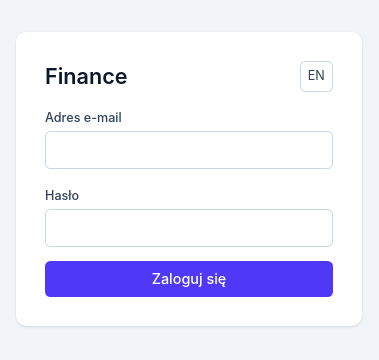
Test: logging in and out › says why the login was refused
In the field labelled "Adres e-mail": point(189, 150) [45,131,333,169], type "user@example.com"
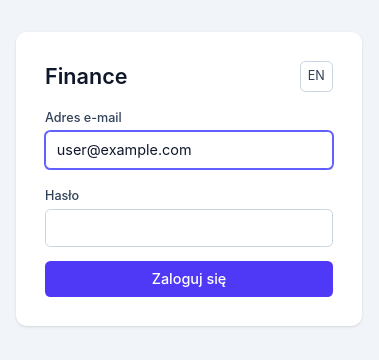
In the password field labelled "Hasło": point(189, 228) [45,209,333,247], type "wrong"
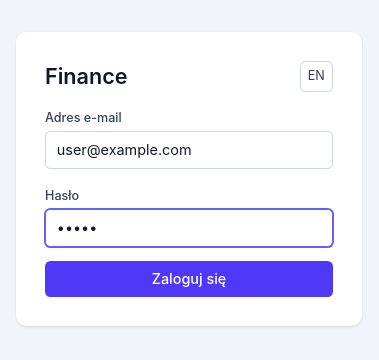
Click the button "Zaloguj się": point(189, 279) [45,261,333,297]
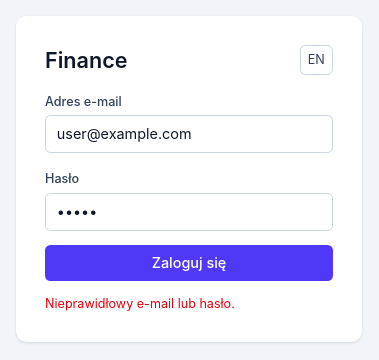
expect the button "Zaloguj się" is enabled: met, box [45,245,333,281]
expect the message reads "Nieprawidłowy e-mail lub hasło.": met, box [45,296,235,311]
